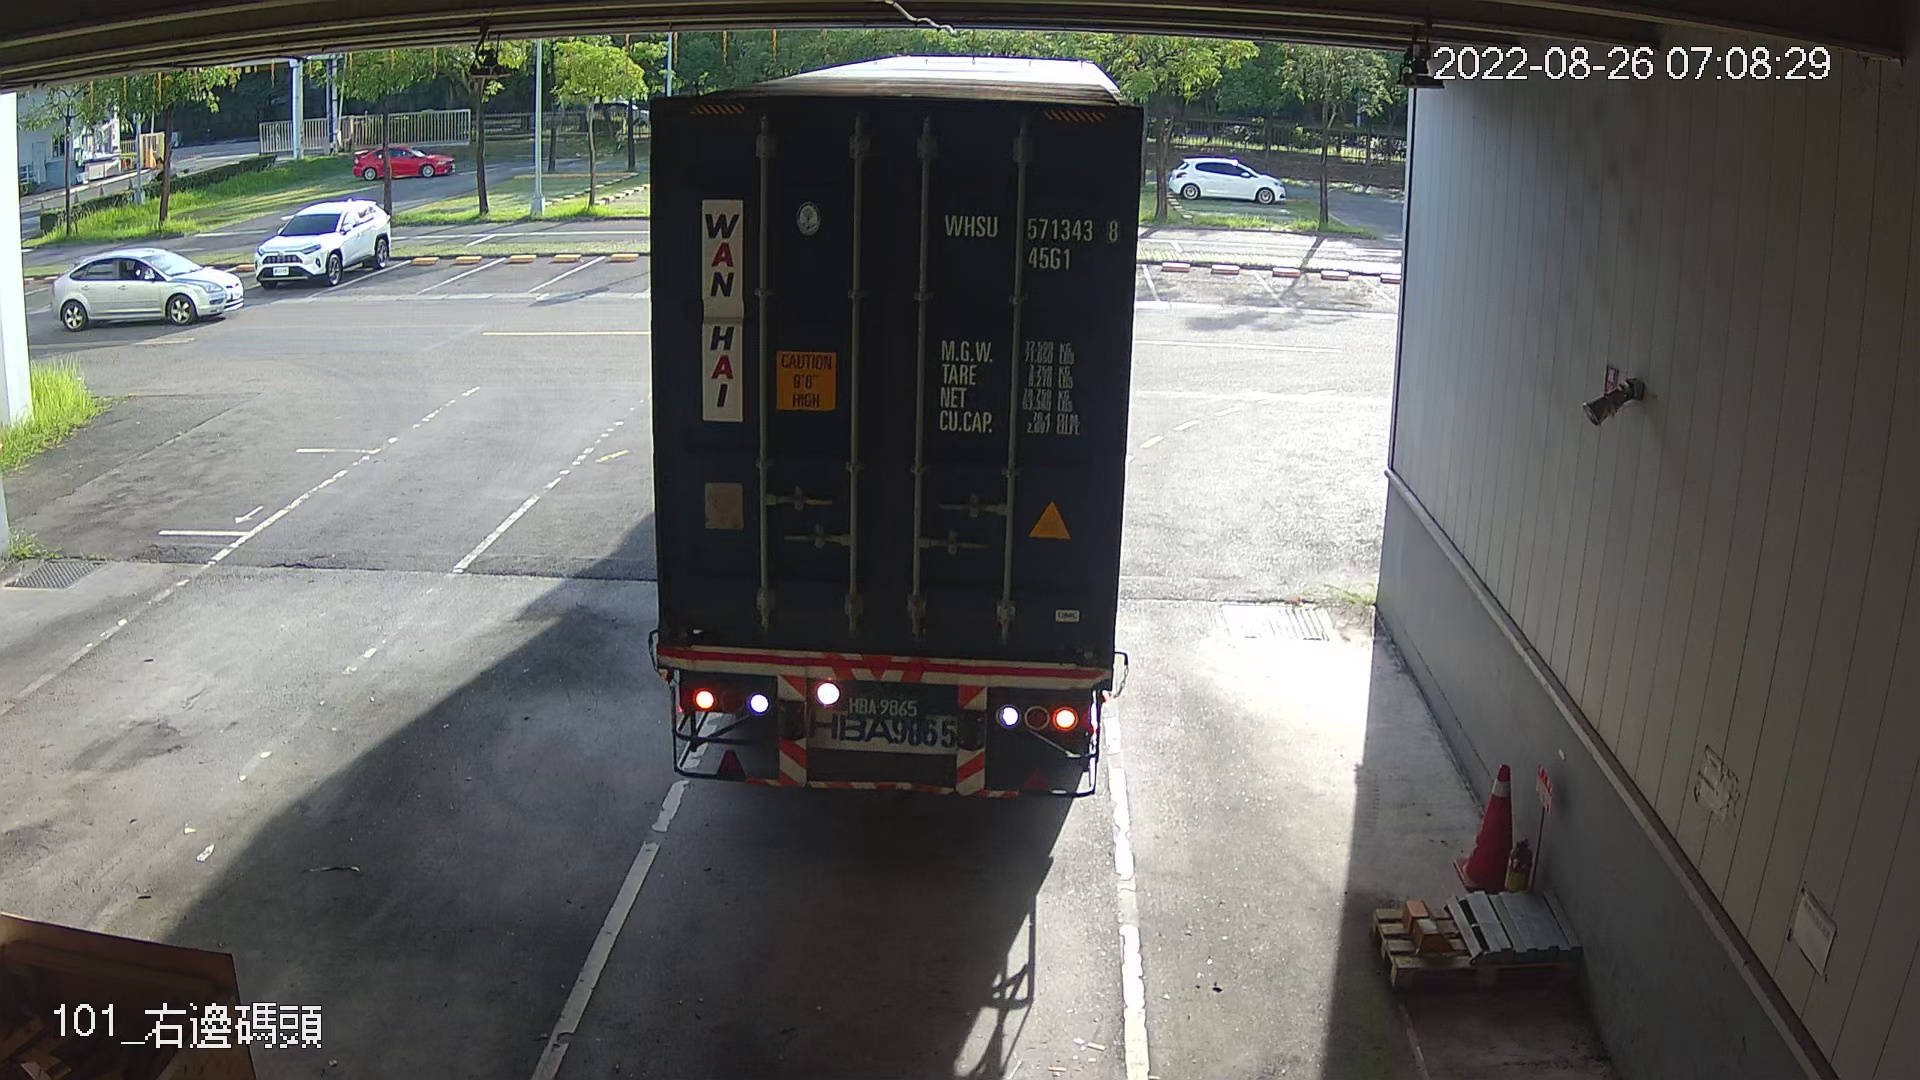container: (932, 204, 1125, 276)
